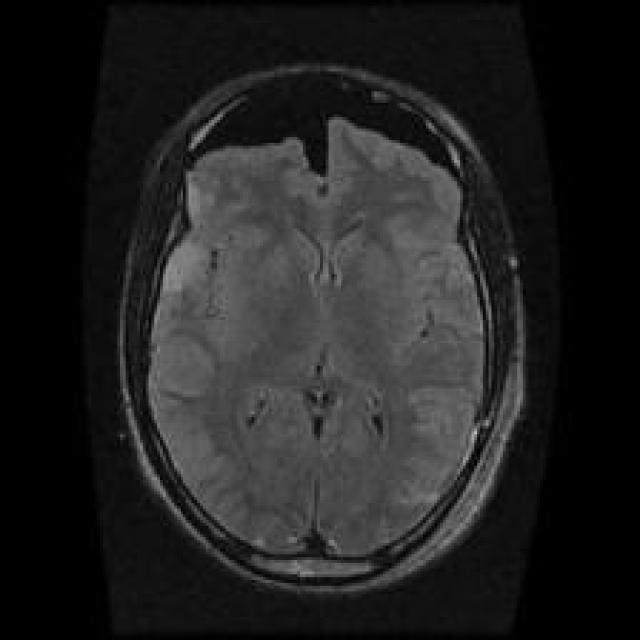no_tumor: (110, 55, 534, 602)
